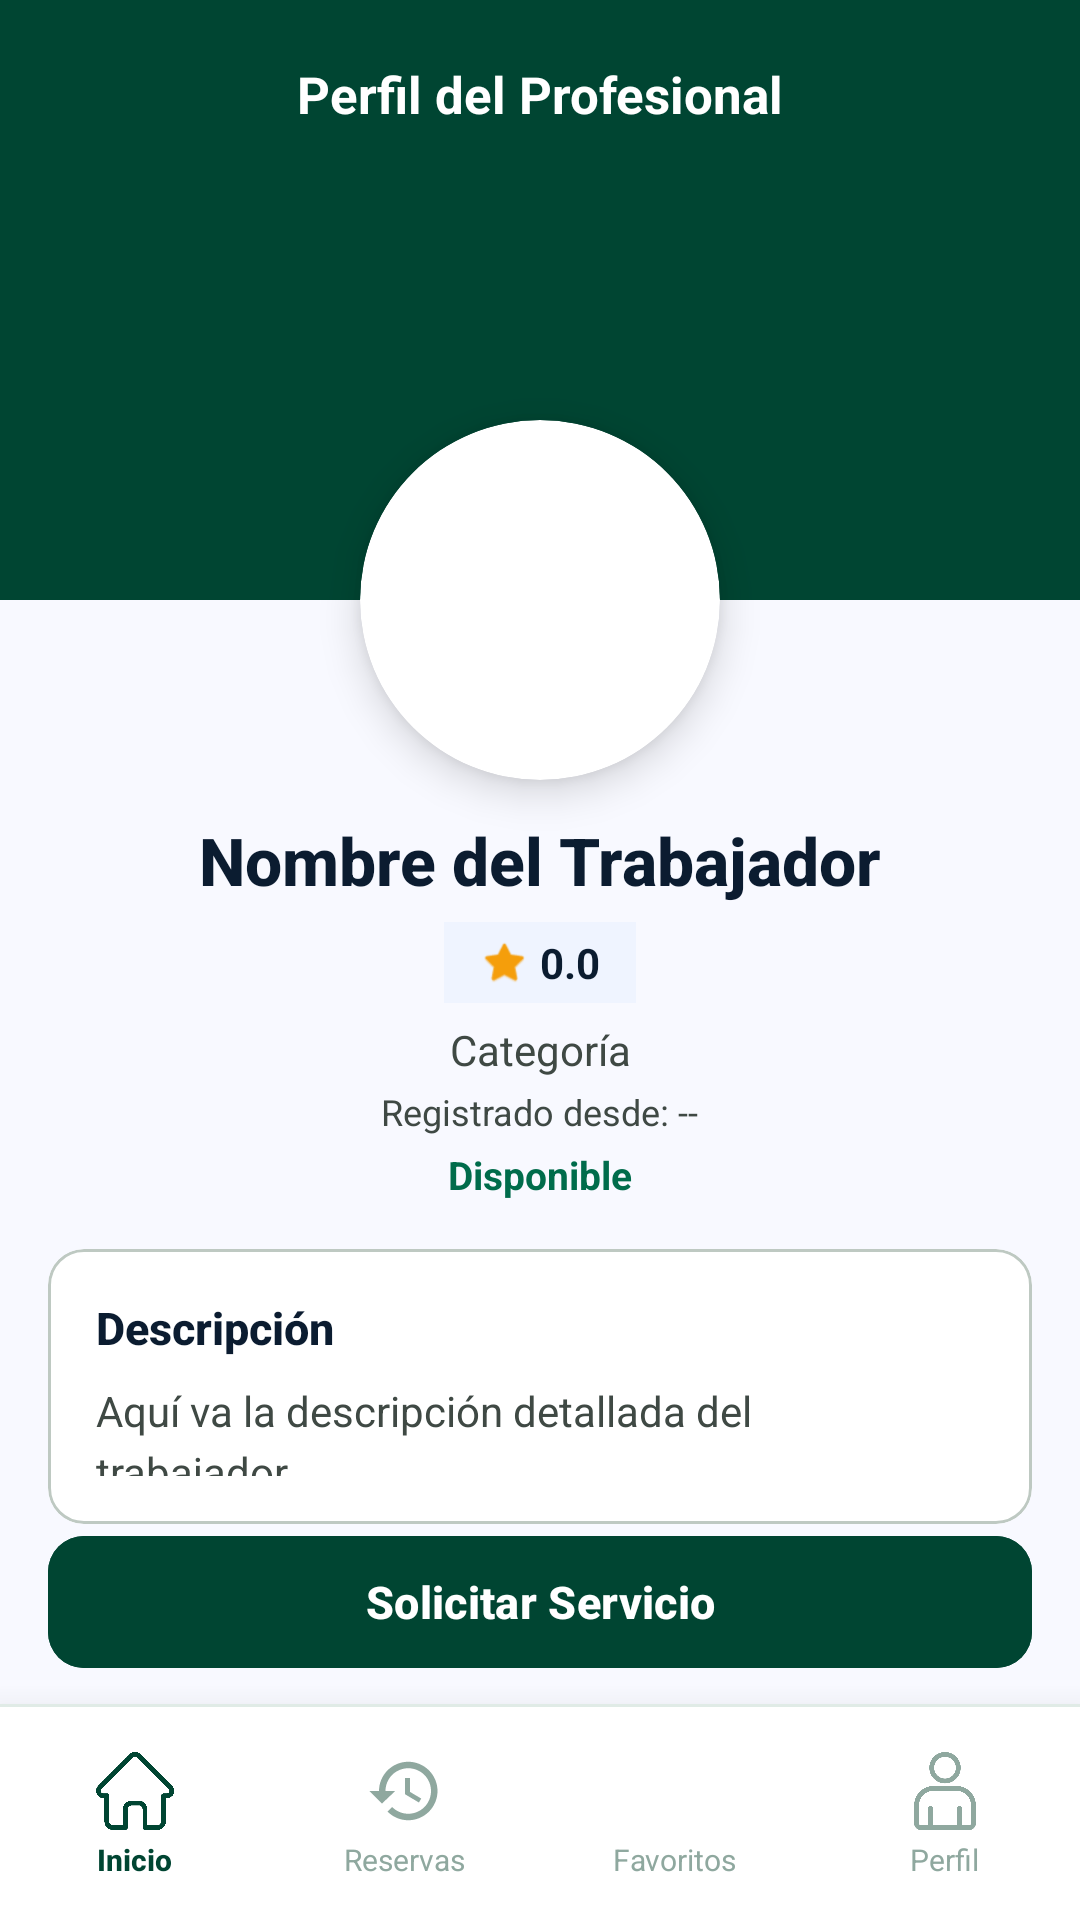

Where to tap for icons on this 1080×1920 app screen, as (x,y):
historial: (404,1791)
star on: (504,962)
